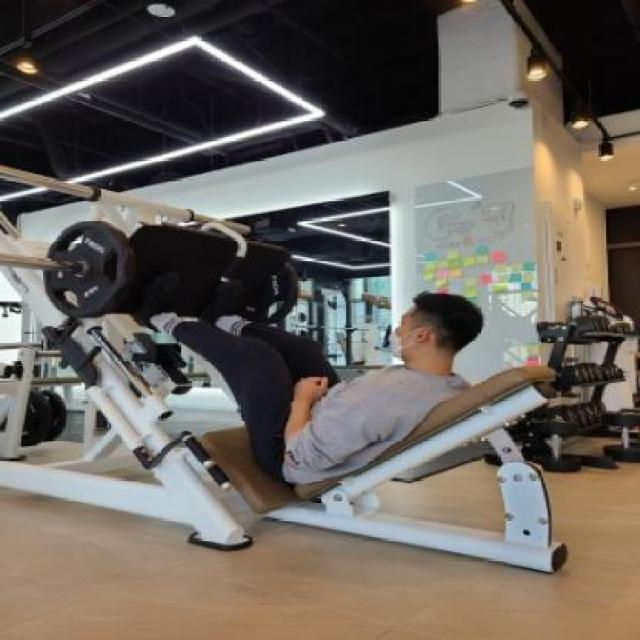leg press: (0, 138, 608, 584)
